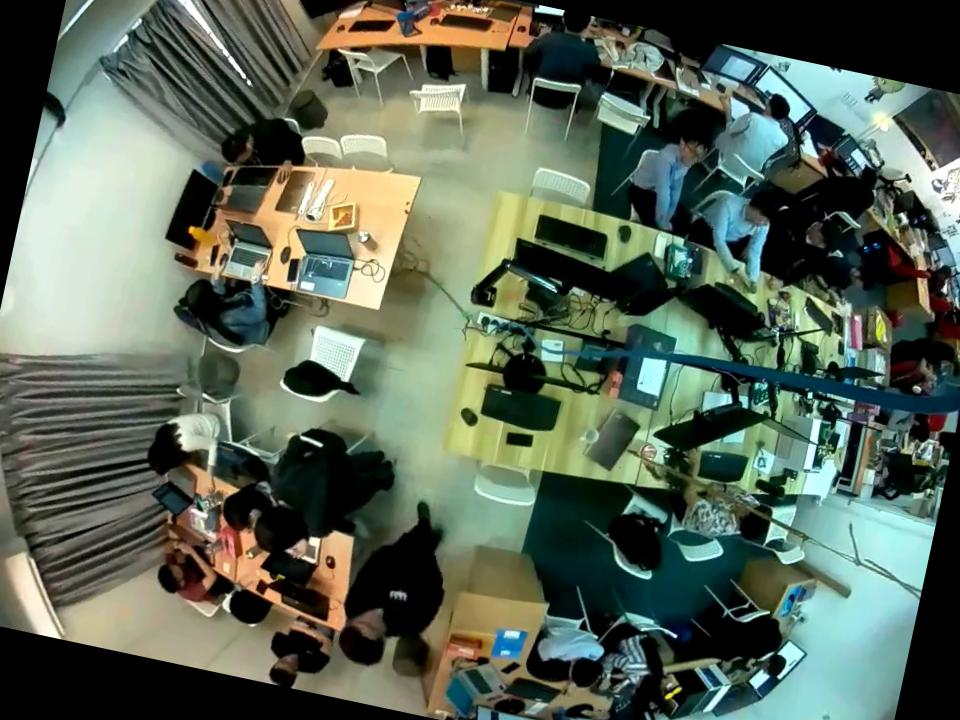employee_tag: (385, 586, 409, 602)
